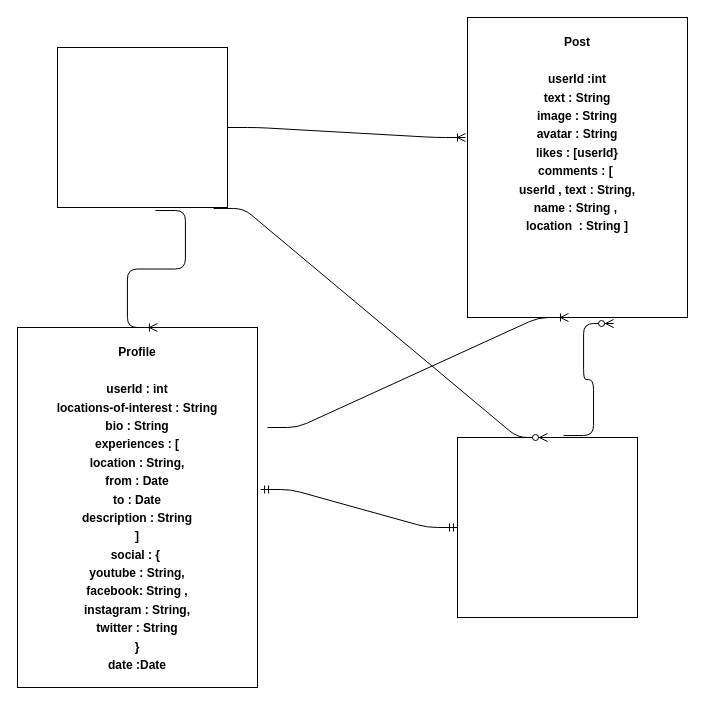
This 705x705 diagram has some shape labels left out. Here are the shapes that lost their labels. From the top down, the centre of each, then its label:
At pixel 142 127: "Class : User userId : String name : String email: String password: int".
At pixel 547 527: "admin userId : String name : String email : String".
